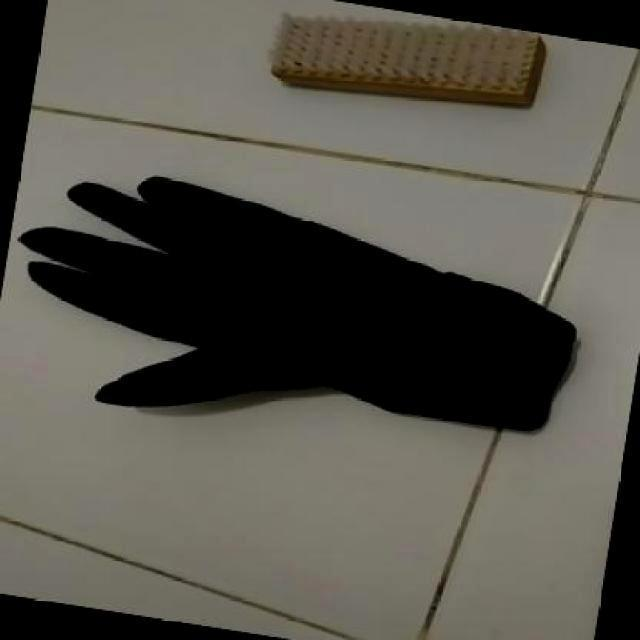Gloves: (17, 172, 579, 434)
